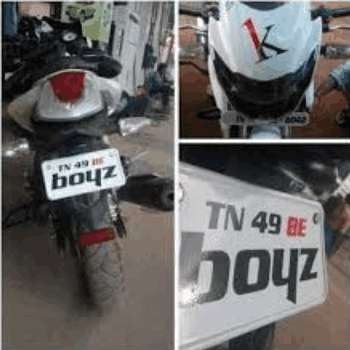number_plate: (179, 157, 338, 350)
